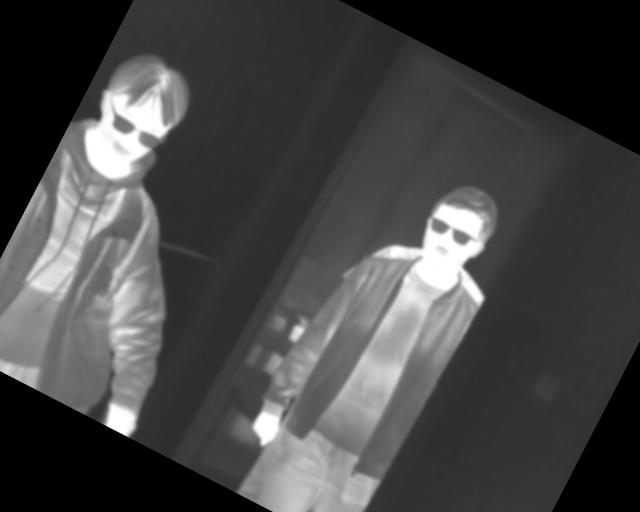face: (75, 39, 203, 180), (406, 176, 507, 288)
